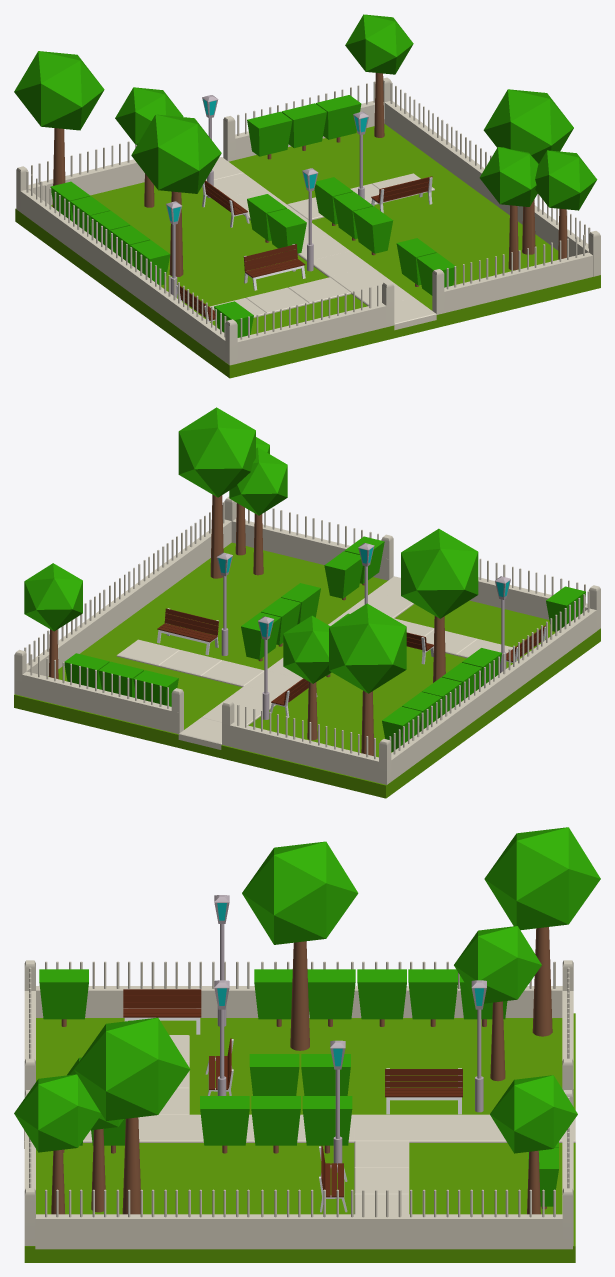
Rendered from Park01.fbx.
3 renders of one model, top to bottom at view 1: azimuth 30°, elevation 25°; view 2: azimuth 150°, elevation 25°; view 3: azimuth 270°, elevation 25°, orthographic. The views are drawn at different scales.
Parts seen in each view (by area): view 1: pCube41; view 2: pCube41; view 3: pCube41.
Part boxes in pixels (x1,y1,x2,y2): pCube41: (14,14,600,378); pCube41: (14,407,600,798); pCube41: (14,827,600,1262).
Bounding box in the file's own units: 1952 × 838 × 2031.
